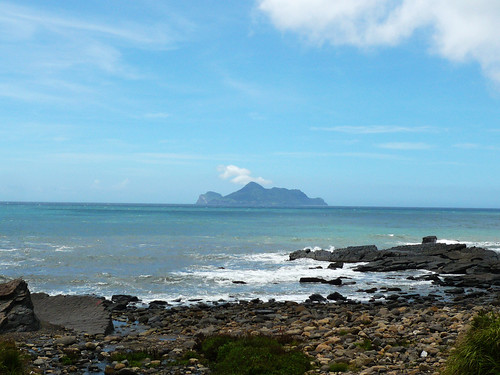turtleIslandLeft: (198, 183, 325, 206)
